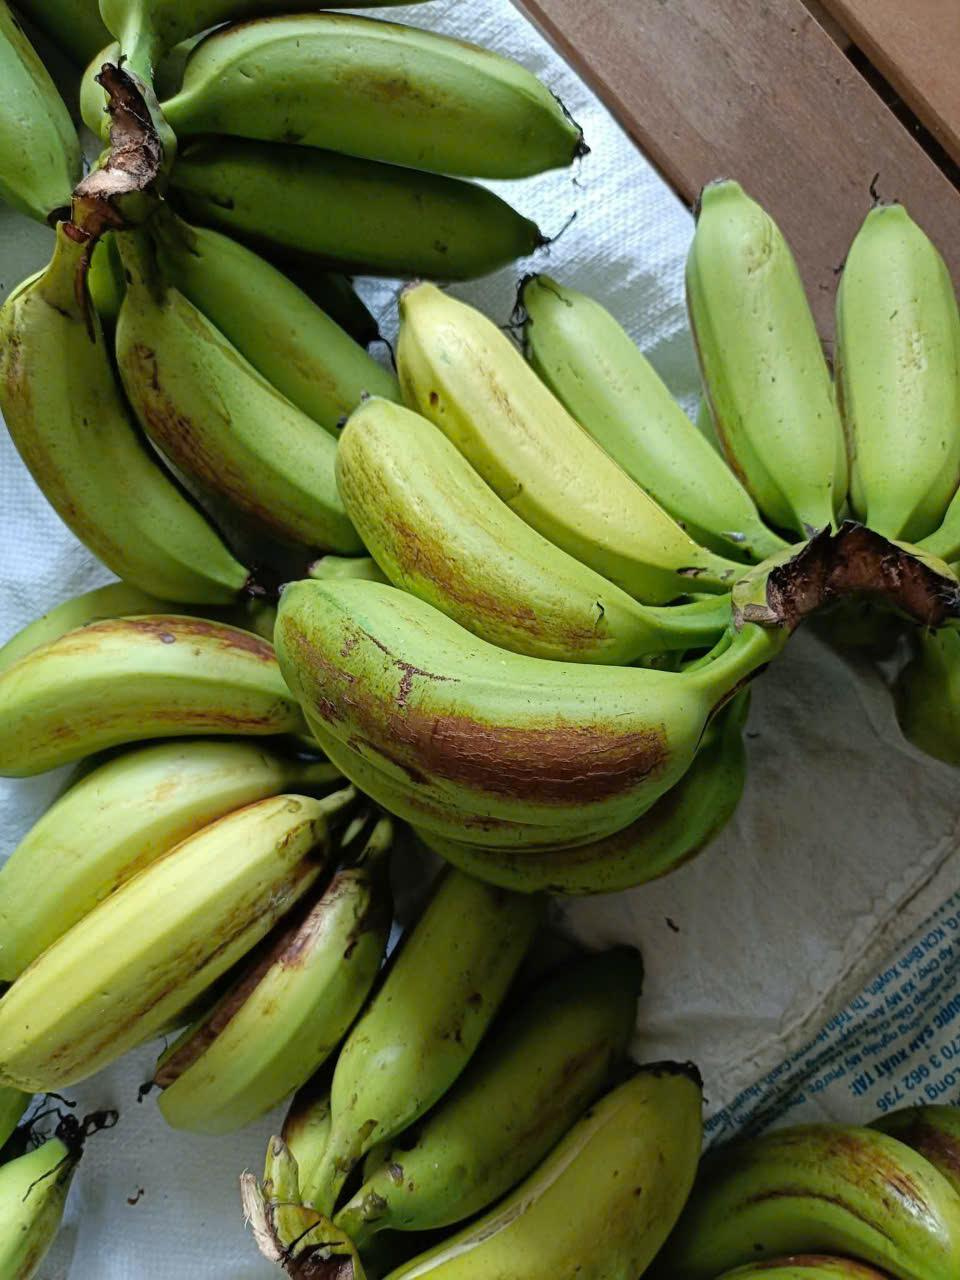apple: (10, 590, 343, 1138)
banana: (276, 290, 792, 854), (261, 853, 736, 1280), (670, 104, 960, 652), (3, 186, 372, 561), (117, 20, 592, 290)
